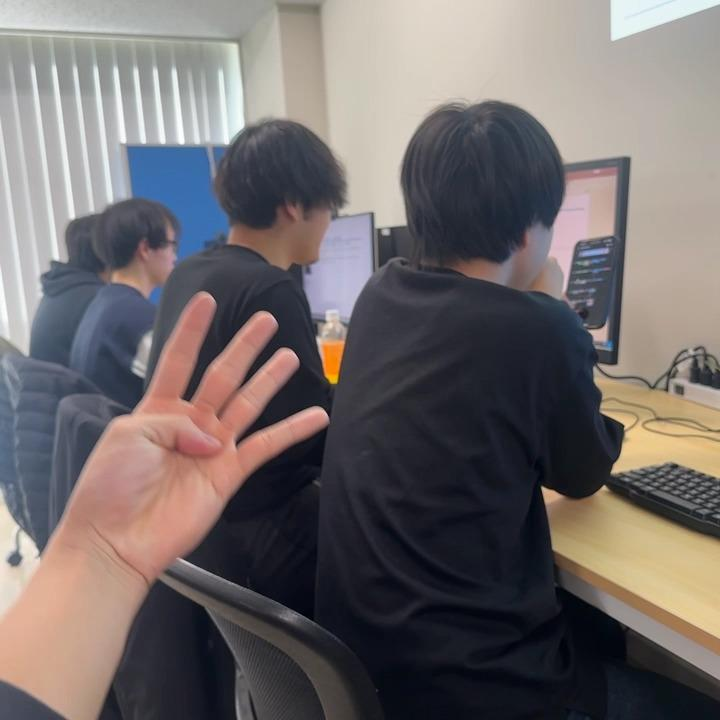without_gloves: (49, 289, 406, 618)
